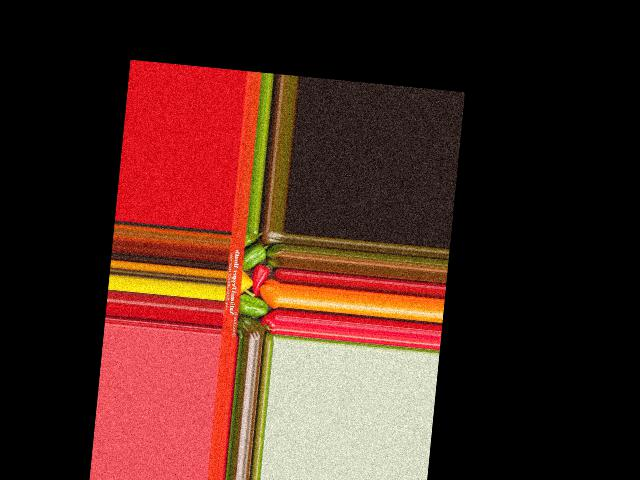bell_pepper: (235, 316, 266, 340)
